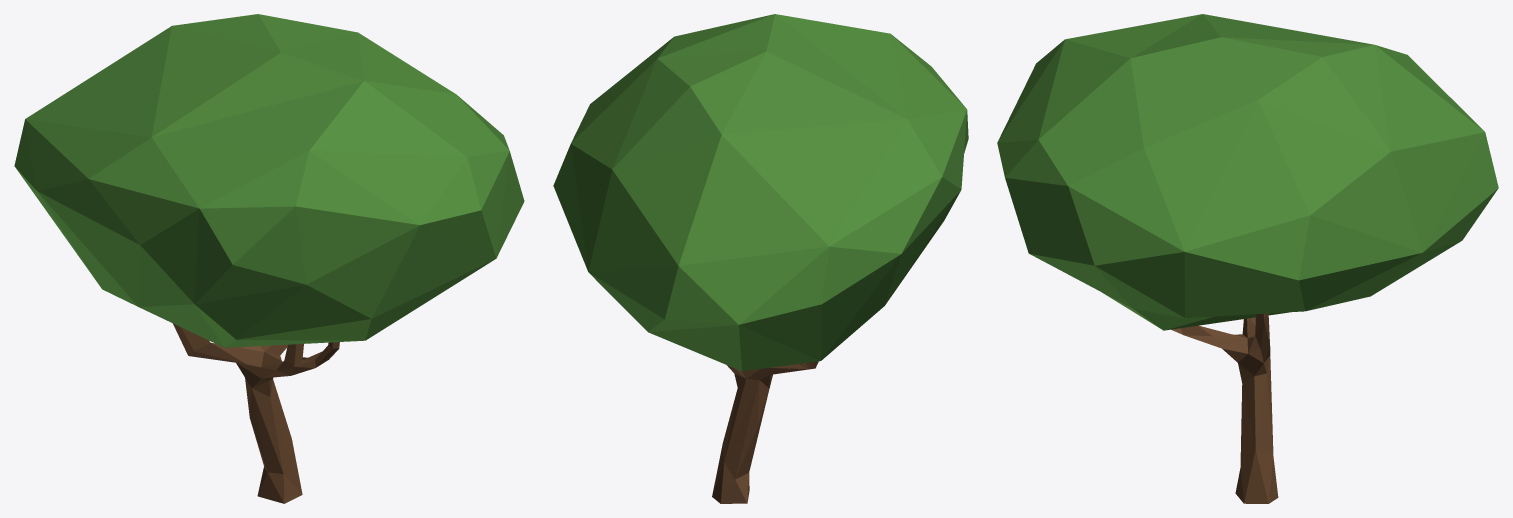
File: shaped-tree-vase.glb
3 views of the same model, side by side, from view 1: azimuth 30°, elevation 25°; view 2: azimuth 150°, elevation 25°; view 3: azimuth 270°, elevation 25° (orthographic). The views are drawn at different scales.
Visible parts, largest first — view 1: leaves_Icosphere.002, trunk_Cube; view 2: leaves_Icosphere.002, trunk_Cube; view 3: leaves_Icosphere.002, trunk_Cube.
Part boxes in pixels (box(x1,y1,x2,y2)): leaves_Icosphere.002: box(14, 14, 524, 347); trunk_Cube: box(173, 323, 339, 503); leaves_Icosphere.002: box(553, 14, 968, 371); trunk_Cube: box(712, 361, 818, 503); leaves_Icosphere.002: box(997, 14, 1498, 330); trunk_Cube: box(1171, 313, 1278, 503).
Size of what is drawn, in the model's own units: 6.34 by 7 by 7.05.
